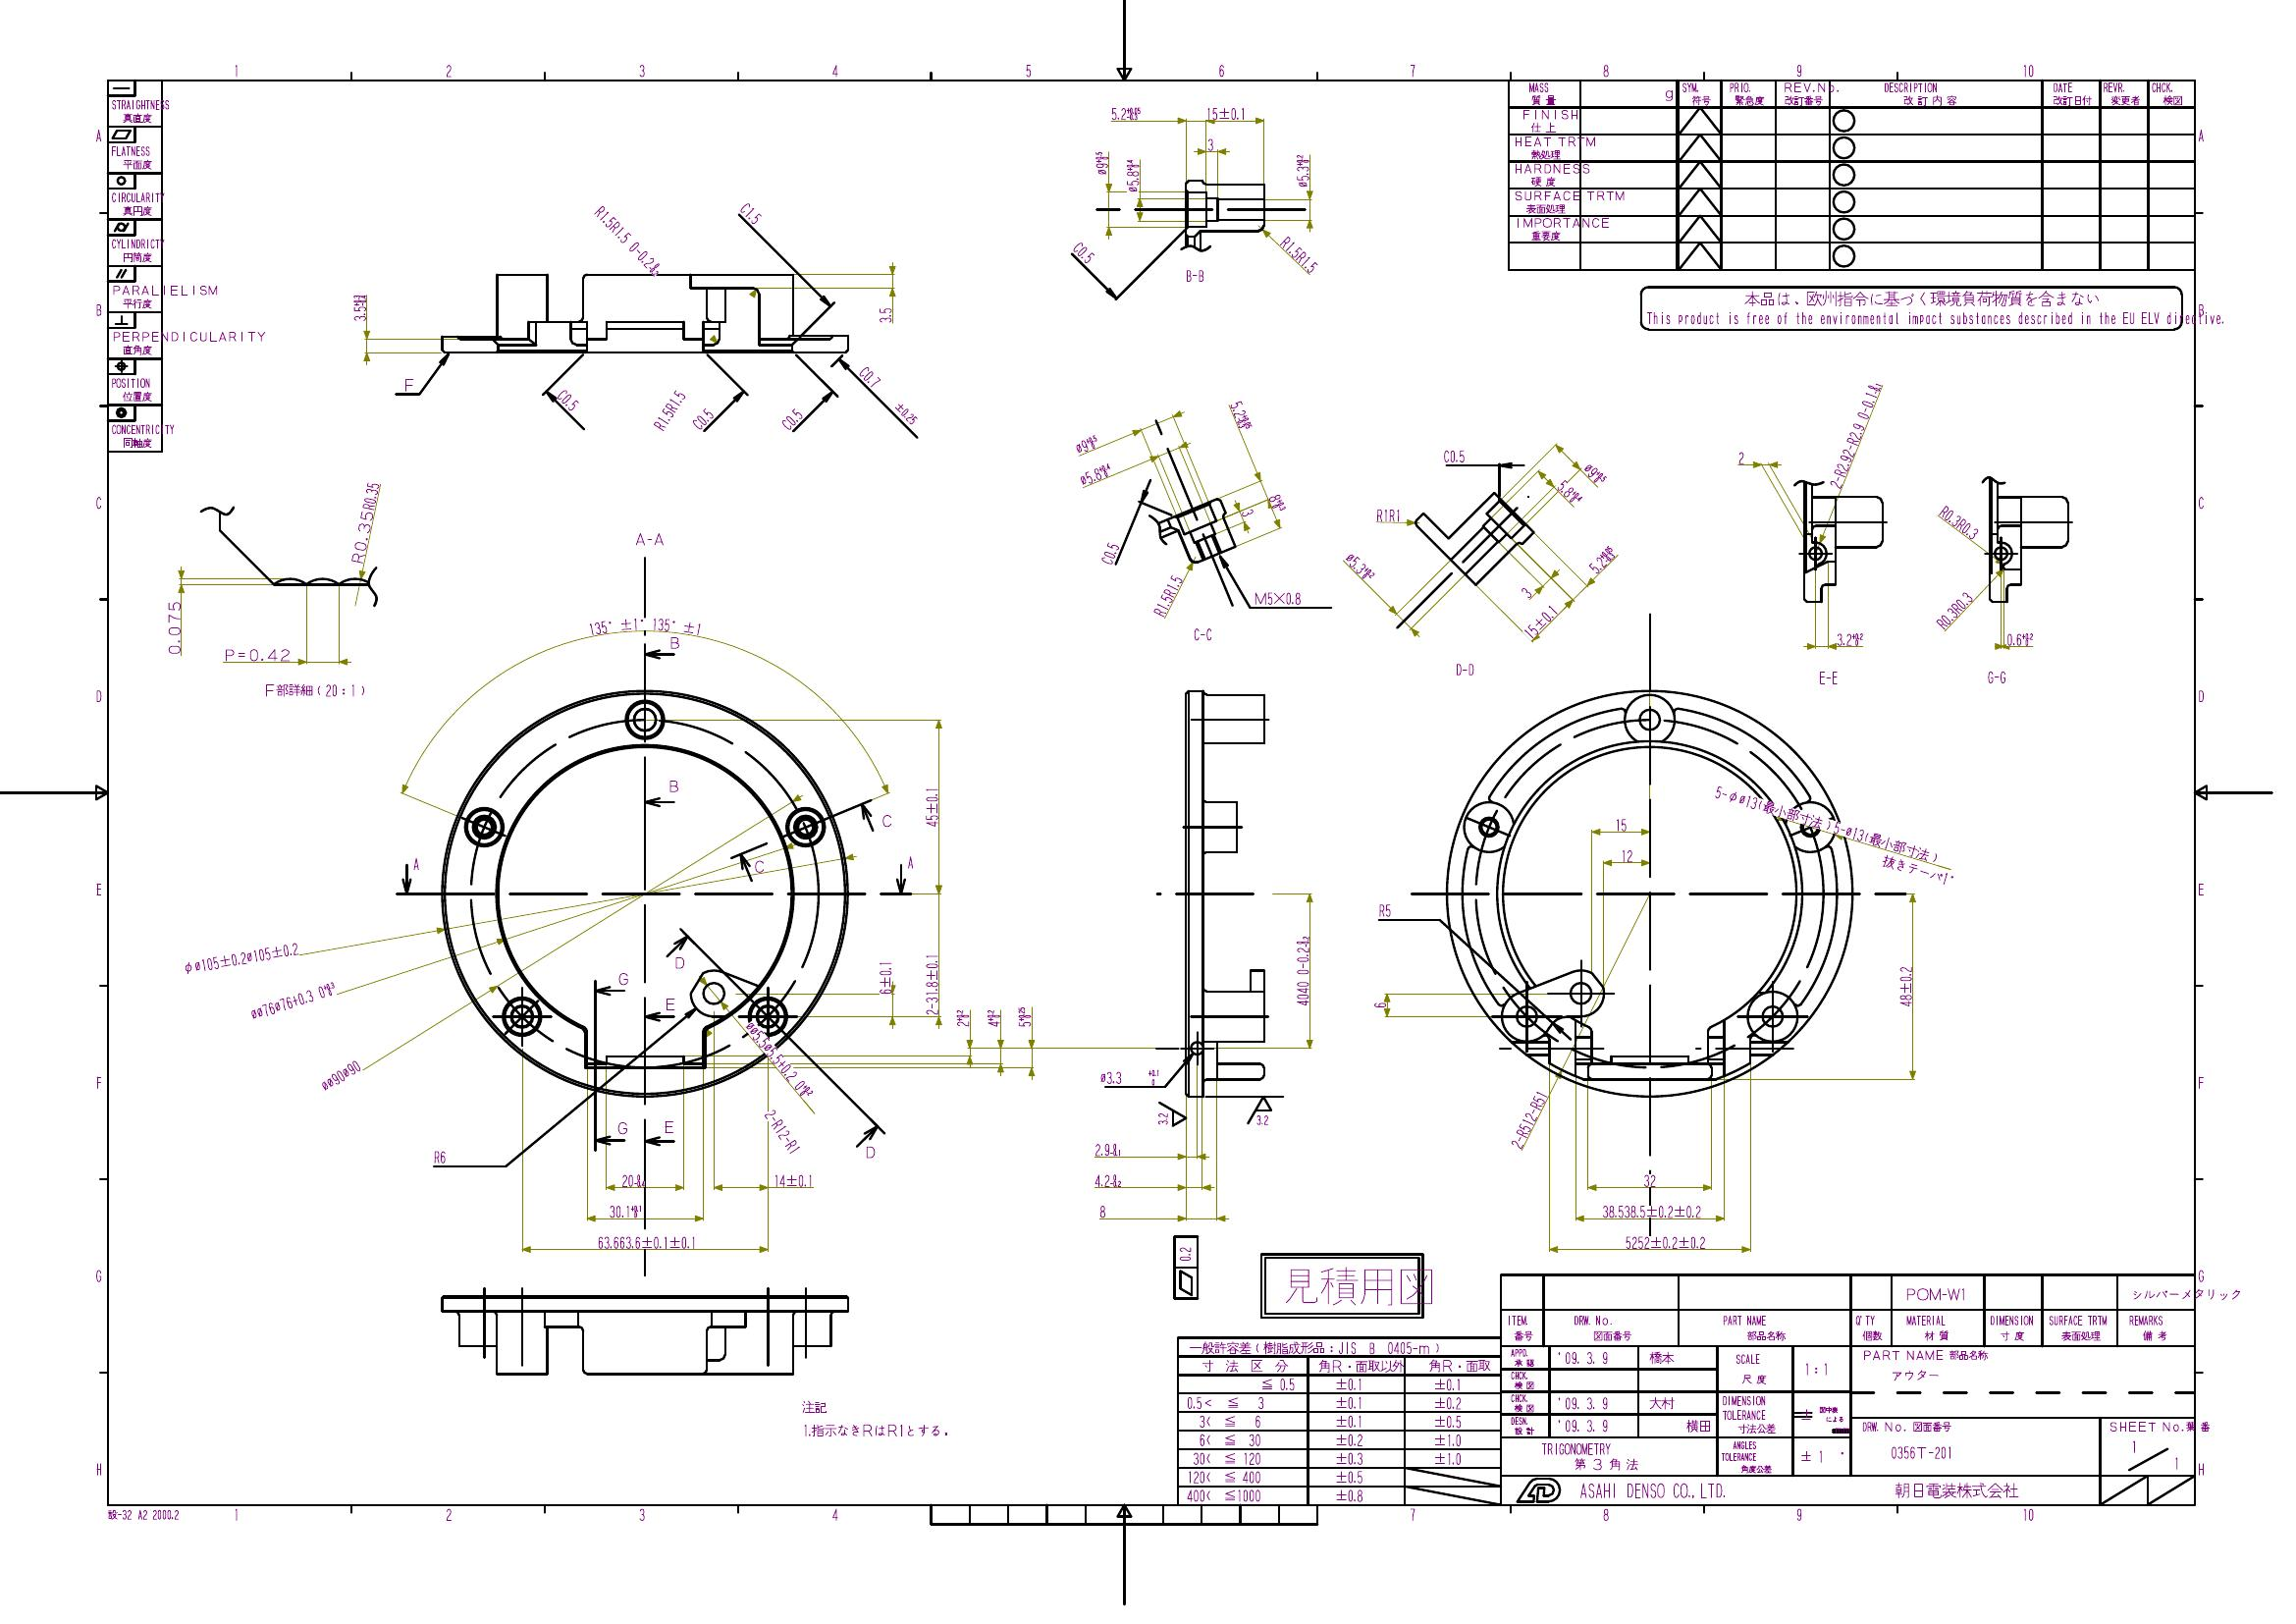anntotation_text: (1641, 286, 2184, 330), (1260, 1253, 1421, 1318), (799, 1399, 950, 1441), (264, 682, 365, 700), (1864, 840, 1941, 854), (1757, 808, 1834, 823), (107, 1508, 183, 1522), (1880, 865, 1955, 877), (1816, 668, 1839, 685), (636, 533, 664, 547), (1985, 668, 2006, 685), (1453, 659, 1476, 675), (1191, 626, 1212, 640), (666, 775, 682, 793), (1184, 269, 1205, 281), (615, 1120, 631, 1134), (662, 1120, 676, 1135), (669, 633, 682, 650), (880, 810, 892, 828), (754, 858, 766, 874), (673, 954, 685, 970), (863, 1144, 875, 1160), (402, 374, 413, 392), (664, 997, 676, 1011), (617, 972, 629, 986), (906, 854, 915, 874), (411, 856, 422, 872)
dimension_text: (587, 615, 704, 636), (181, 951, 304, 965), (1848, 378, 1862, 492), (597, 1234, 696, 1250), (1600, 1204, 1702, 1218), (248, 993, 337, 1007), (583, 232, 669, 246), (731, 1055, 826, 1067), (1623, 1234, 1706, 1248), (357, 482, 371, 562), (848, 388, 929, 402), (1100, 1067, 1163, 1084), (1295, 933, 1309, 1005), (223, 647, 290, 661), (165, 598, 181, 656), (1521, 1086, 1535, 1151), (924, 953, 938, 1016), (1253, 589, 1303, 605), (775, 1107, 789, 1156), (646, 402, 694, 417), (1897, 965, 1913, 1007), (1936, 515, 1982, 529), (1277, 248, 1321, 262), (924, 784, 938, 828), (1207, 105, 1245, 121), (1159, 575, 1173, 617), (1713, 791, 1758, 803), (1932, 605, 1976, 617), (608, 1202, 641, 1218), (1521, 615, 1563, 627), (320, 1069, 362, 1081), (1830, 824, 1867, 838), (1295, 151, 1309, 188), (1233, 401, 1249, 432), (773, 1174, 813, 1186), (1124, 156, 1138, 192), (1342, 559, 1377, 573), (1836, 631, 1866, 647), (1080, 466, 1110, 482), (1093, 1141, 1121, 1156), (1585, 554, 1620, 566), (878, 960, 891, 995), (351, 292, 365, 322), (555, 392, 581, 408), (1108, 107, 1142, 120), (1442, 448, 1467, 464), (2006, 633, 2032, 647), (1073, 436, 1100, 450), (1374, 508, 1400, 522), (1093, 1174, 1123, 1186), (1555, 487, 1583, 499), (620, 1172, 645, 1186), (1103, 541, 1117, 566), (1015, 1005, 1031, 1026), (738, 207, 764, 220), (1583, 468, 1607, 480), (1094, 149, 1107, 174), (1072, 246, 1096, 258), (692, 413, 713, 425), (782, 413, 803, 425), (1272, 492, 1284, 513), (956, 1009, 970, 1026), (1179, 1244, 1193, 1262), (1156, 1111, 1170, 1128), (987, 1009, 1000, 1028), (1641, 1172, 1657, 1186), (878, 306, 891, 323), (1379, 902, 1391, 919), (432, 1149, 446, 1164), (1620, 847, 1634, 861), (1614, 817, 1627, 831), (1098, 1202, 1108, 1218), (1254, 1114, 1270, 1125), (1734, 450, 1744, 464), (1240, 508, 1256, 517), (1374, 998, 1386, 1009), (1521, 587, 1530, 599), (1207, 139, 1214, 151)
object: (1446, 691, 1852, 1098), (443, 691, 848, 1097), (441, 1295, 848, 1376), (1184, 689, 1265, 1095), (439, 274, 848, 353), (200, 506, 378, 606), (1414, 490, 1534, 587), (1982, 475, 2069, 603), (1794, 480, 1883, 603), (1179, 179, 1265, 253), (1147, 497, 1237, 562)
title_block: (1179, 1272, 2196, 1506), (1507, 81, 2196, 272), (107, 79, 162, 452)
